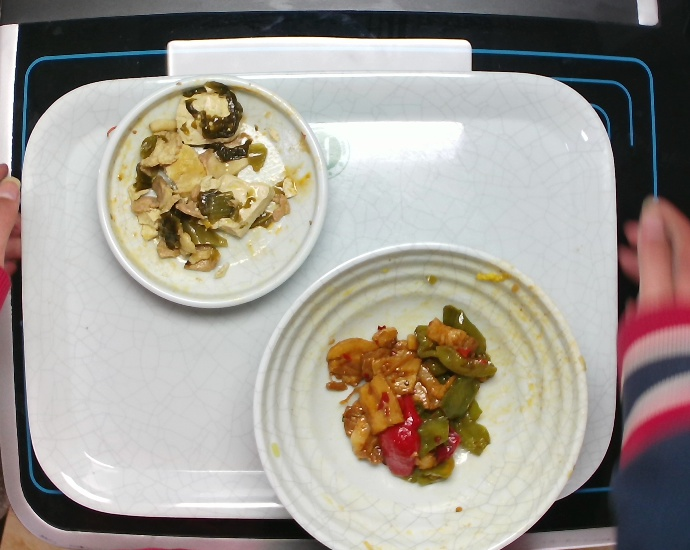JYsf-Da_Tang_Wan: (249, 236, 592, 550)
JYsf-Xiao_Yuan_Pan: (92, 71, 326, 311)
